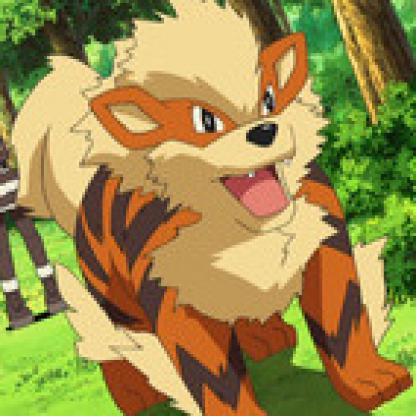Arcanine: (51, 22, 379, 414)
